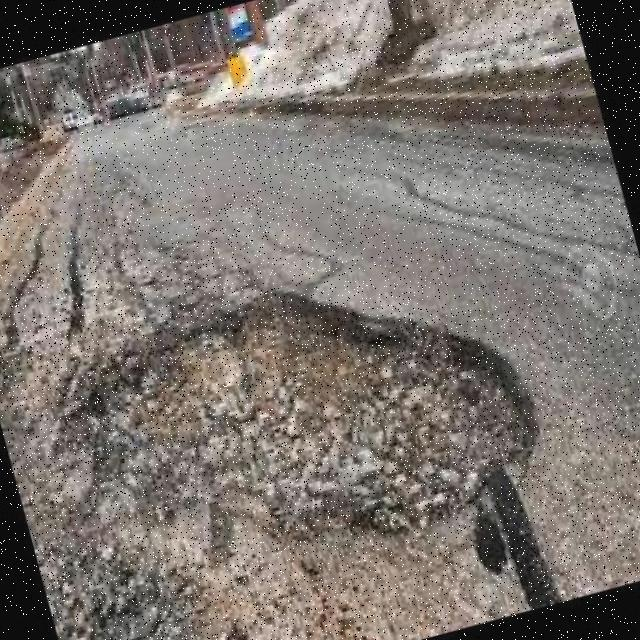pothole: (92, 288, 533, 554)
